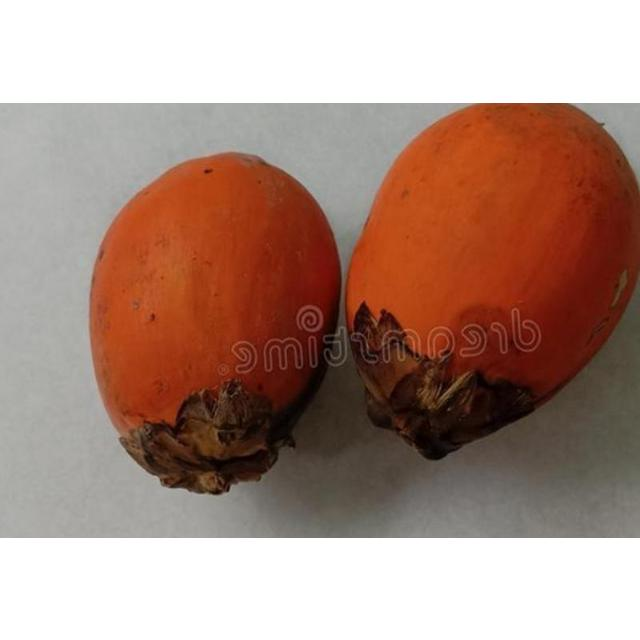good: (343, 102, 639, 460), (87, 151, 342, 496)
